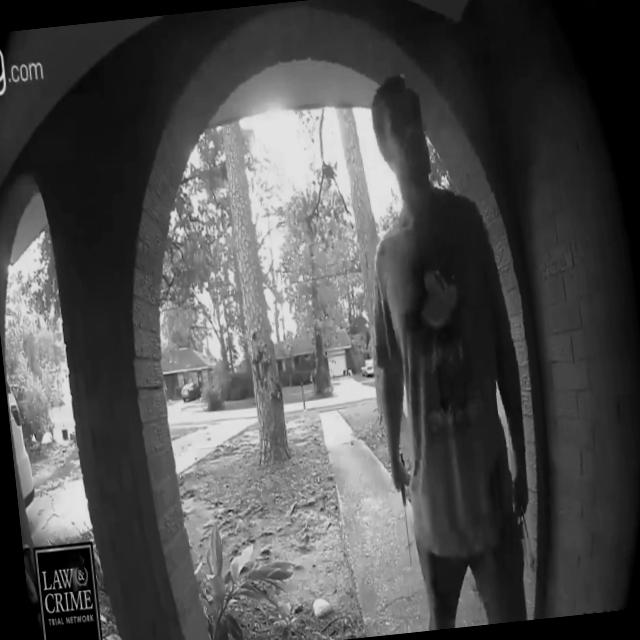weapon: (298, 23, 559, 638)
